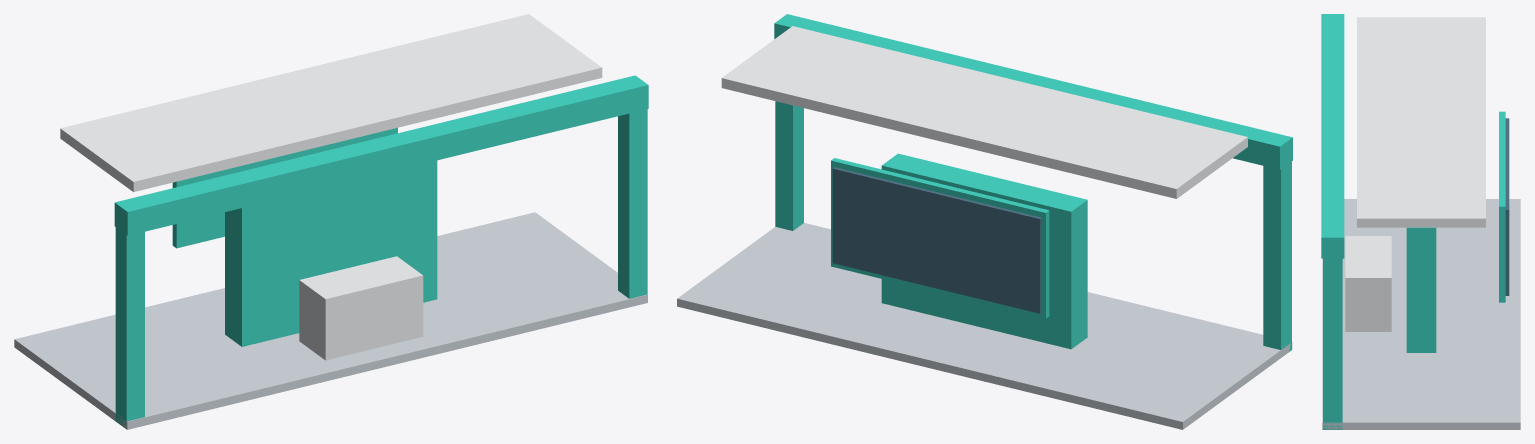
3 renders of one model, left to right at view 1: azimuth 30°, elevation 25°; view 2: azimuth 150°, elevation 25°; view 3: azimuth 270°, elevation 25°, orthographic. The views are drawn at different scales.
Visible parts, largest first — view 1: Exhibition Booth Concept; view 2: Exhibition Booth Concept; view 3: Exhibition Booth Concept.
Part boxes in pixels (x1,y1,x2,y2): Exhibition Booth Concept: (14, 14, 648, 429); Exhibition Booth Concept: (677, 14, 1292, 429); Exhibition Booth Concept: (1321, 14, 1520, 429).
Size of the model in its own units: 8 by 3.34 by 3.01.
